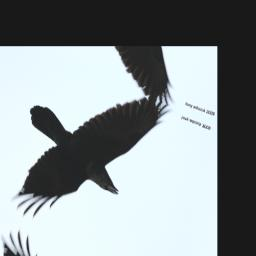Crow: (0, 59, 172, 256)
